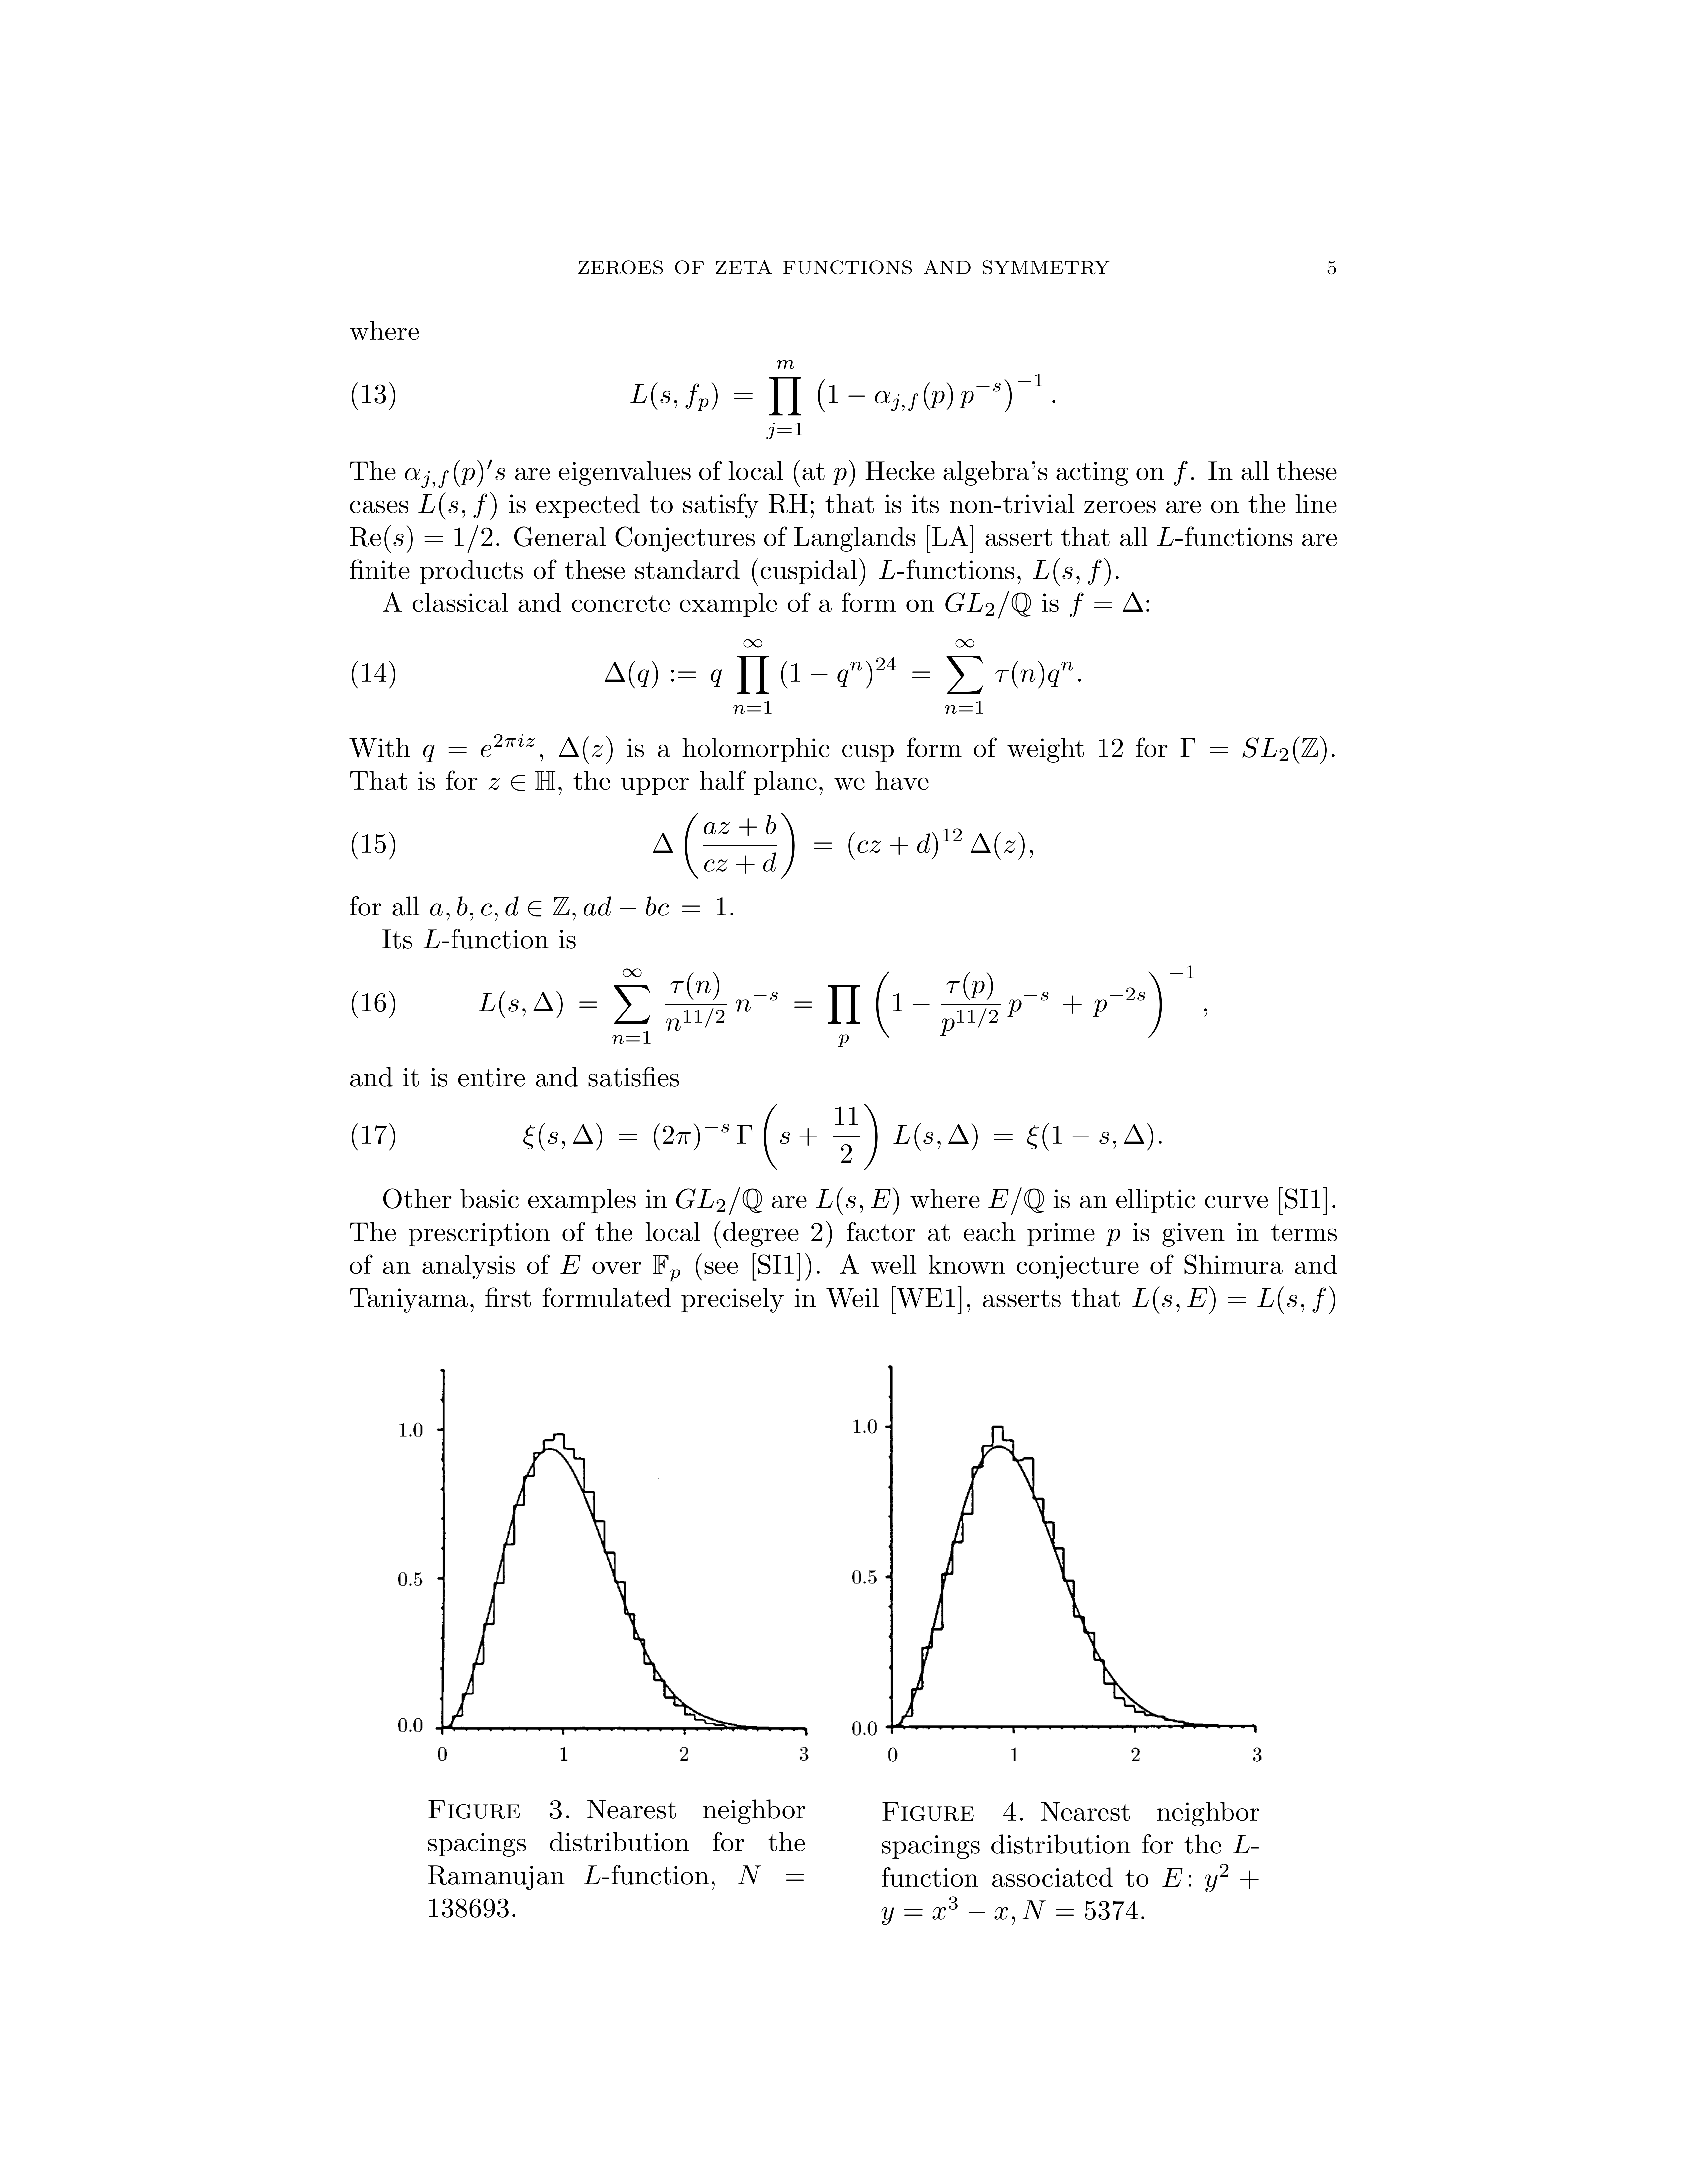maths: (478, 966, 1193, 1046), (523, 1104, 1154, 1170), (604, 638, 1072, 714), (631, 360, 1042, 440), (652, 814, 1024, 879), (1132, 1287, 1334, 1314), (1180, 736, 1327, 764), (349, 525, 493, 553), (881, 1897, 1015, 1925), (424, 734, 542, 762), (404, 459, 505, 487), (1162, 1863, 1258, 1891), (945, 592, 1031, 619), (677, 1188, 762, 1214), (1022, 1900, 1138, 1920), (817, 1188, 898, 1214), (418, 493, 496, 519), (1033, 558, 1111, 585), (1070, 592, 1143, 617), (558, 736, 613, 764), (989, 1188, 1044, 1214), (737, 1865, 805, 1884), (489, 771, 555, 791), (505, 897, 569, 916), (682, 897, 727, 915), (652, 1255, 680, 1282), (457, 897, 473, 920), (1173, 461, 1187, 486), (560, 1255, 579, 1273), (583, 1865, 601, 1884), (424, 929, 439, 948), (431, 904, 448, 920), (480, 904, 498, 920), (1233, 1835, 1249, 1852), (1106, 1229, 1120, 1246)
